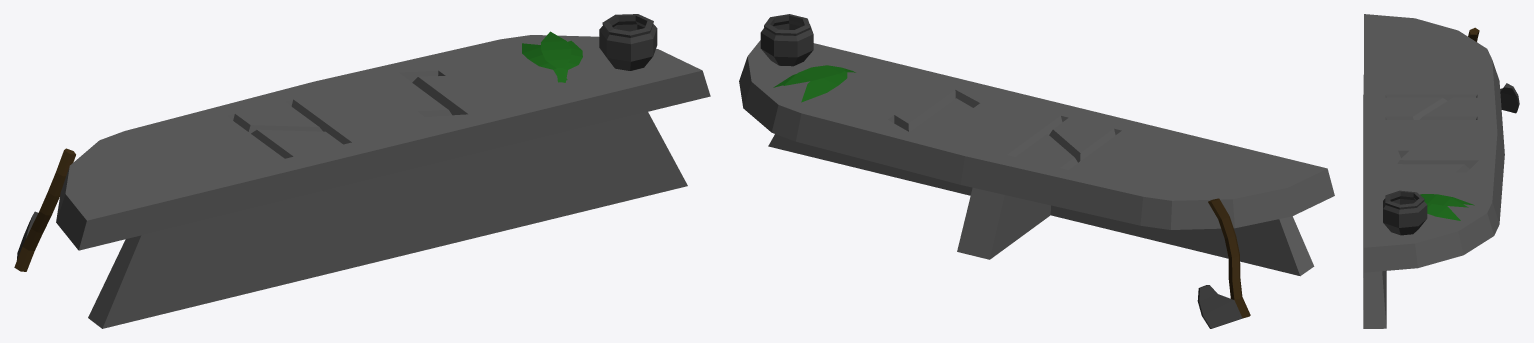
File: alchemyTable.fbx
3 views of the same model, side by side, from view 1: azimuth 30°, elevation 25°; view 2: azimuth 150°, elevation 25°; view 3: azimuth 270°, elevation 25° (orthographic). The views are drawn at different scales.
Visible parts, largest first — view 1: Cylinder.003; view 2: Cylinder.003; view 3: Cylinder.003.
Part boxes in pixels (x1,y1,x2,y2): Cylinder.003: [14, 14, 710, 328]; Cylinder.003: [739, 14, 1334, 328]; Cylinder.003: [1363, 14, 1519, 328].
Bounding box in the file's own units: 425 × 98.27 × 117.
